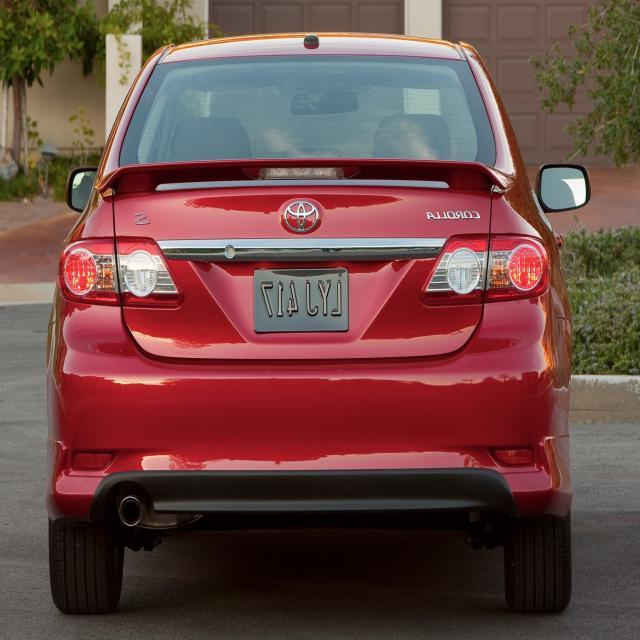Car: (41, 17, 593, 630)
